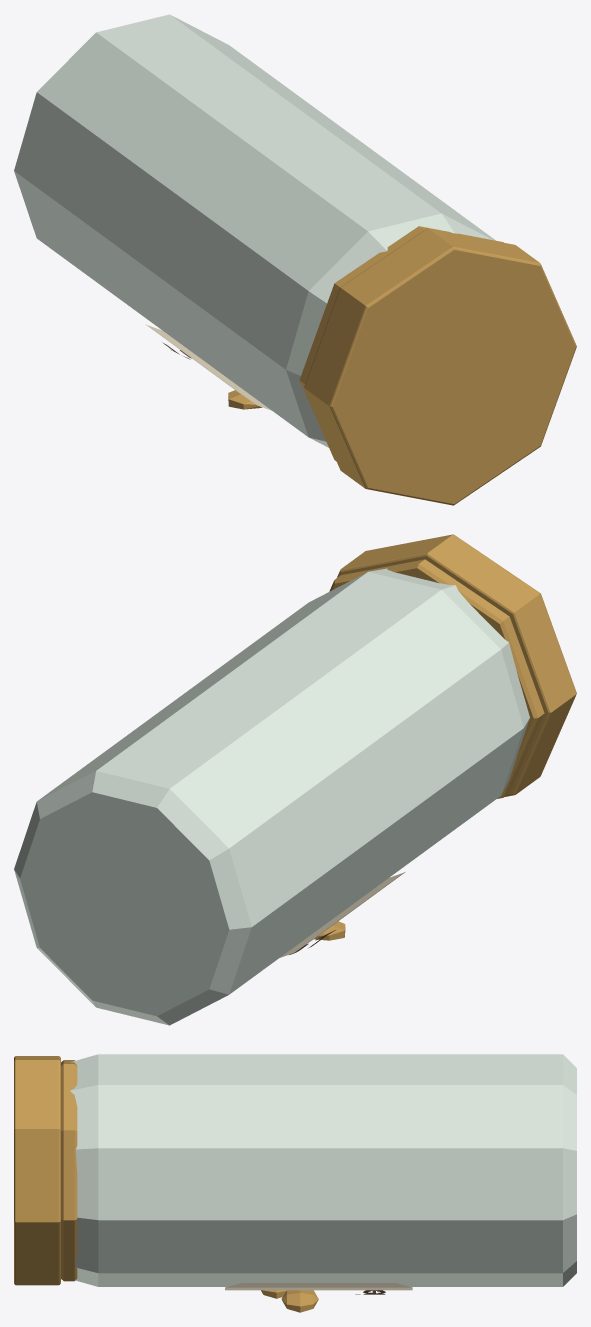
Rendered from turmeric.glb.
3 renders of one model, top to bottom at view 1: azimuth 30°, elevation 25°; view 2: azimuth 150°, elevation 25°; view 3: azimuth 270°, elevation 25°, orthographic. The views are drawn at different scales.
Parts seen in each view (by area): view 1: turmeric; view 2: turmeric; view 3: turmeric.
Part boxes in pixels (x1,y1,x2,y2): turmeric: [14, 14, 576, 505]; turmeric: [14, 534, 576, 1025]; turmeric: [14, 1054, 576, 1312].
Bounding box in the file's own units: 0.052 × 0.0545 × 0.12.
